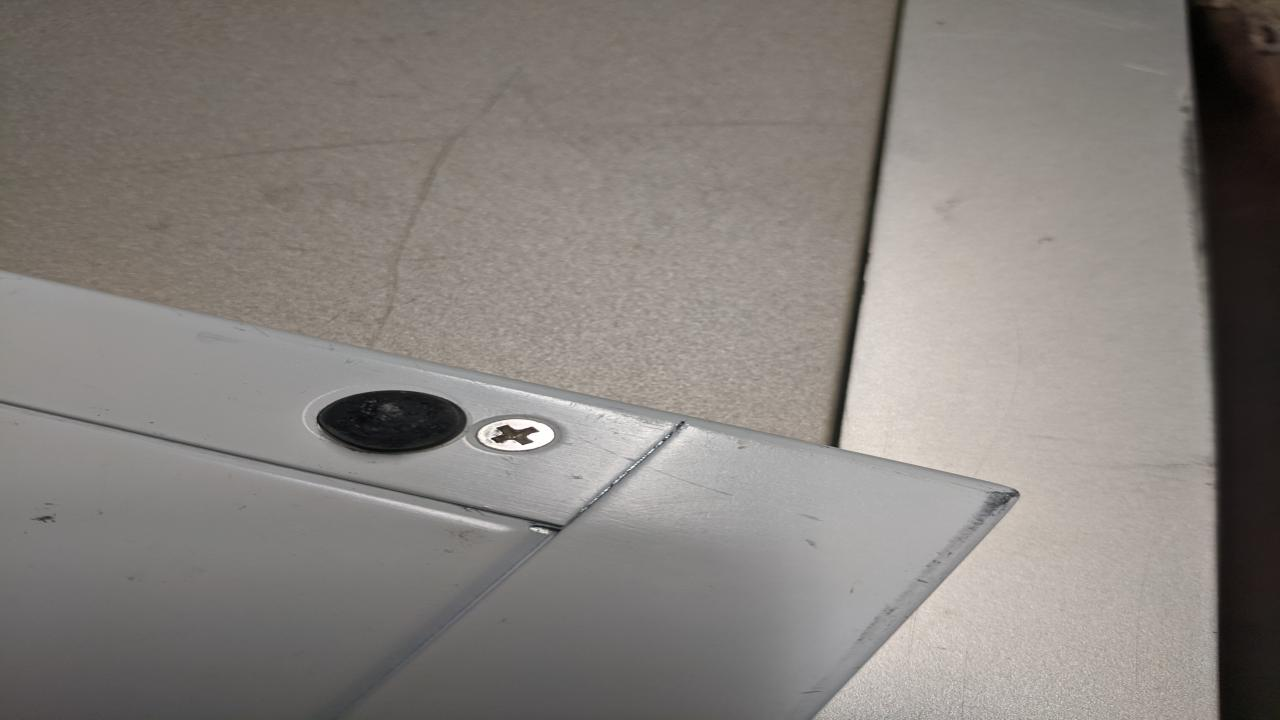CRS: (475, 419, 563, 452)
